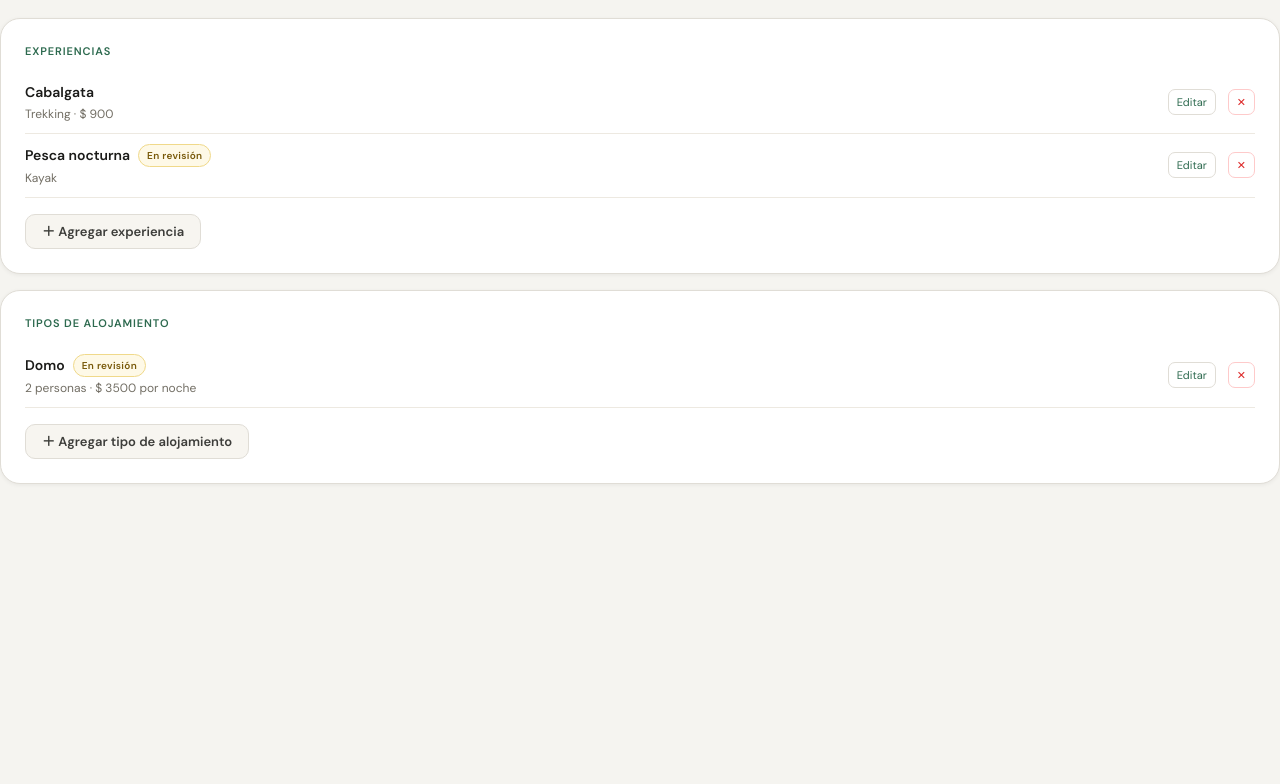
Test case: ContentTab › no guarda una experiencia incompleta
This screenshot has width=1280, height=784.
Check: the text "Cabalgata" is shown, box [25,82,94,102]
Step 1. Click the button "＋ Agregar experiencia" → {"x": 113, "y": 231}, box [25,214,201,249]
(page scrolled)
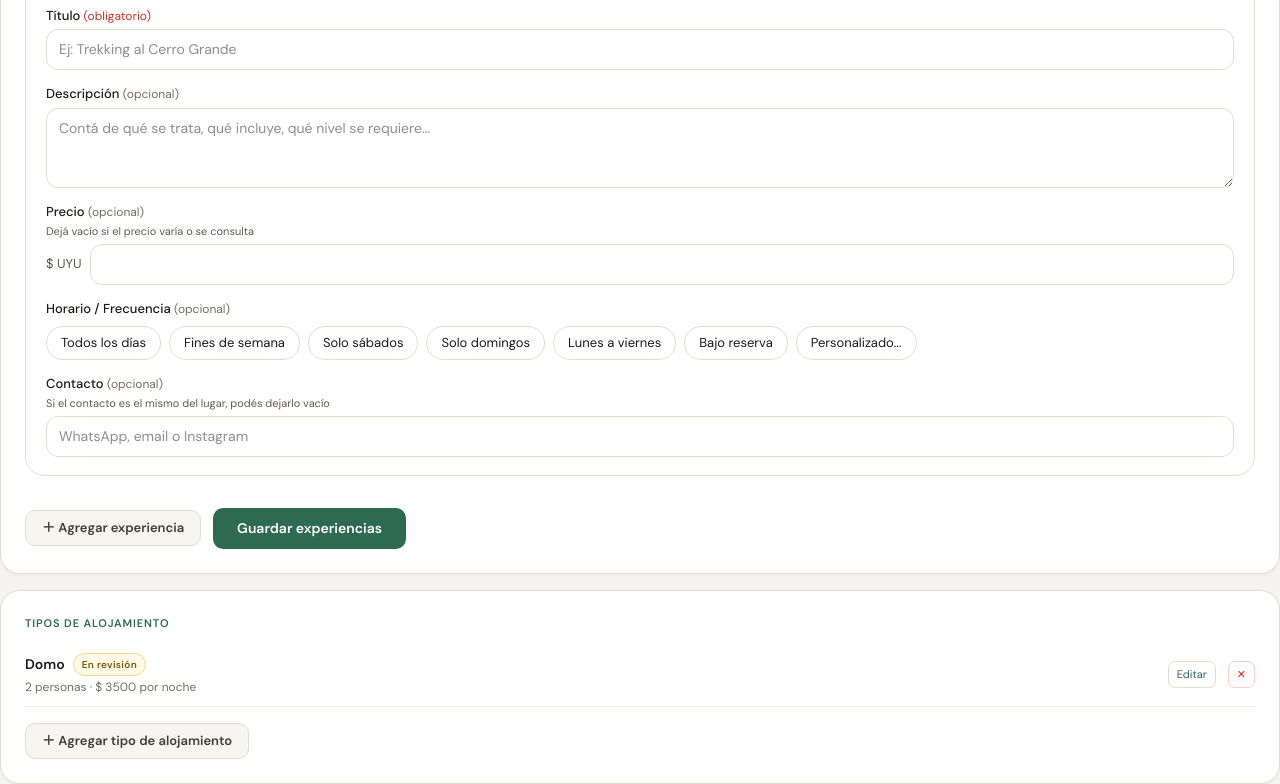
Step 2. Click the button "Guardar experiencias" → {"x": 310, "y": 528}, box [213,508,406,548]
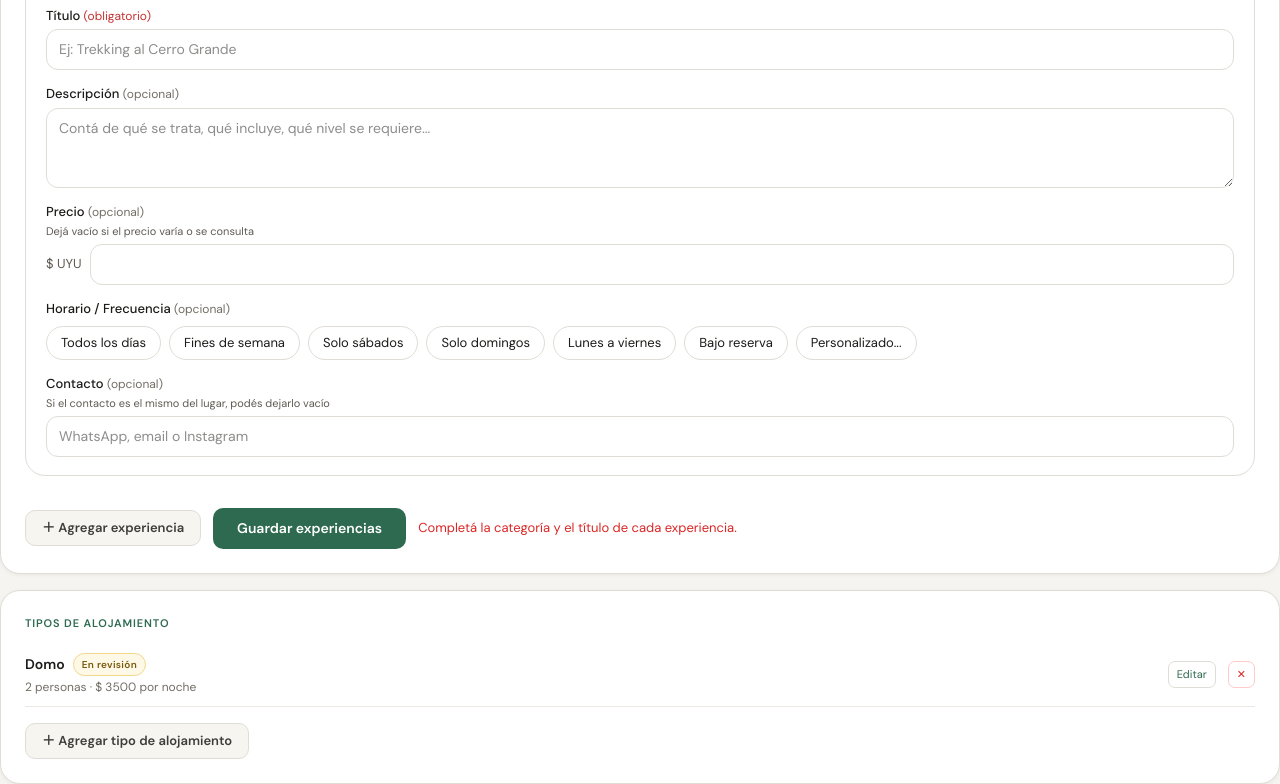
Check: the text "Completá la categoría y el título de cada experiencia." is shown, box [418,518,737,538]
